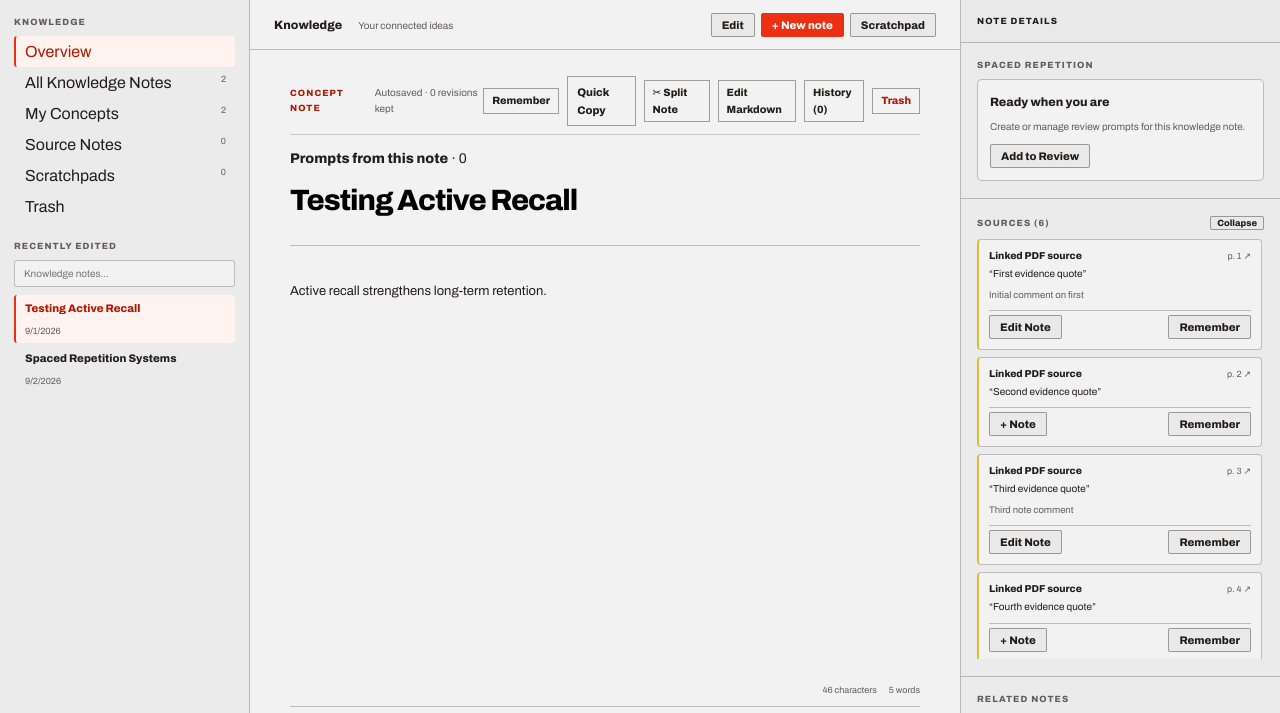
Test: NotesView evidence & backlinks visibility › supports collapsing and expanding the Sources section in sidebar
Expected: the element with test id "knowledge-source-item-eb-1" is shown, [977,239,1262,350]
Step 1. Click the button "Collapse" → click(1237, 223), box [1210,216,1264,230]
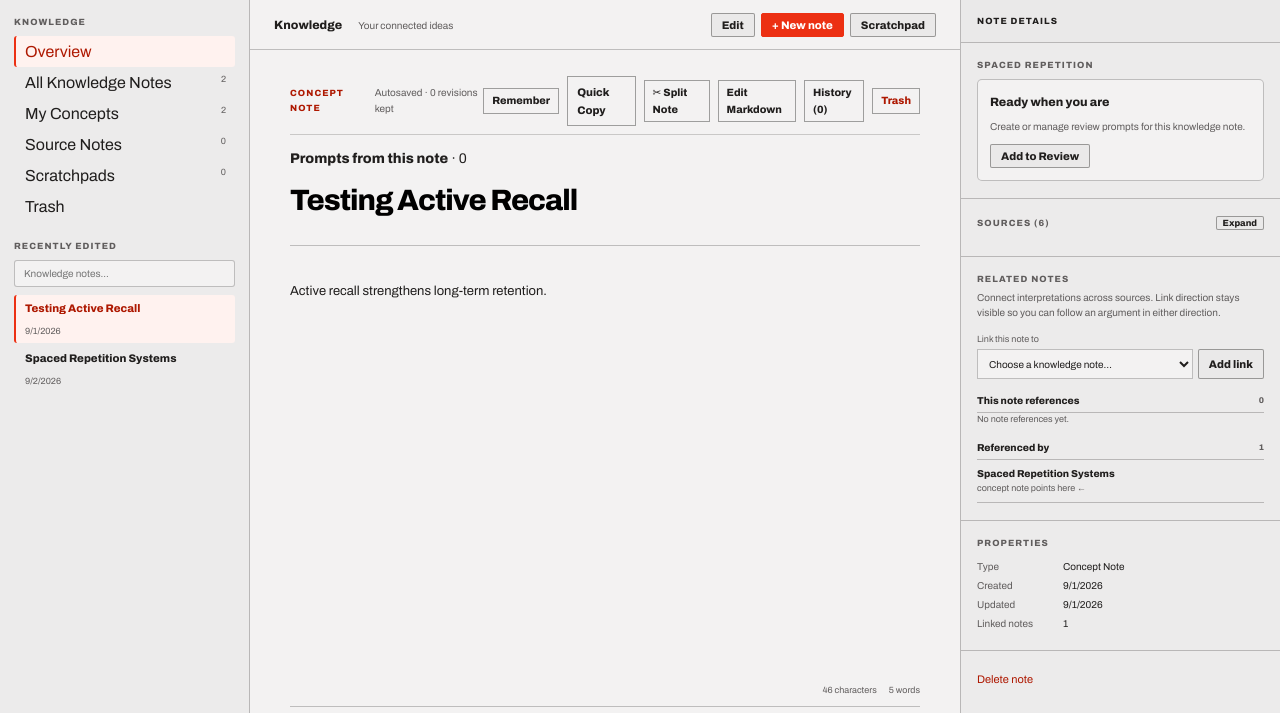
Now the element with test id "knowledge-source-item-eb-1" is gone
# Clicking Expand restores the list
Step 2. Click the button "Expand" → click(1240, 223), box [1216,216,1264,230]
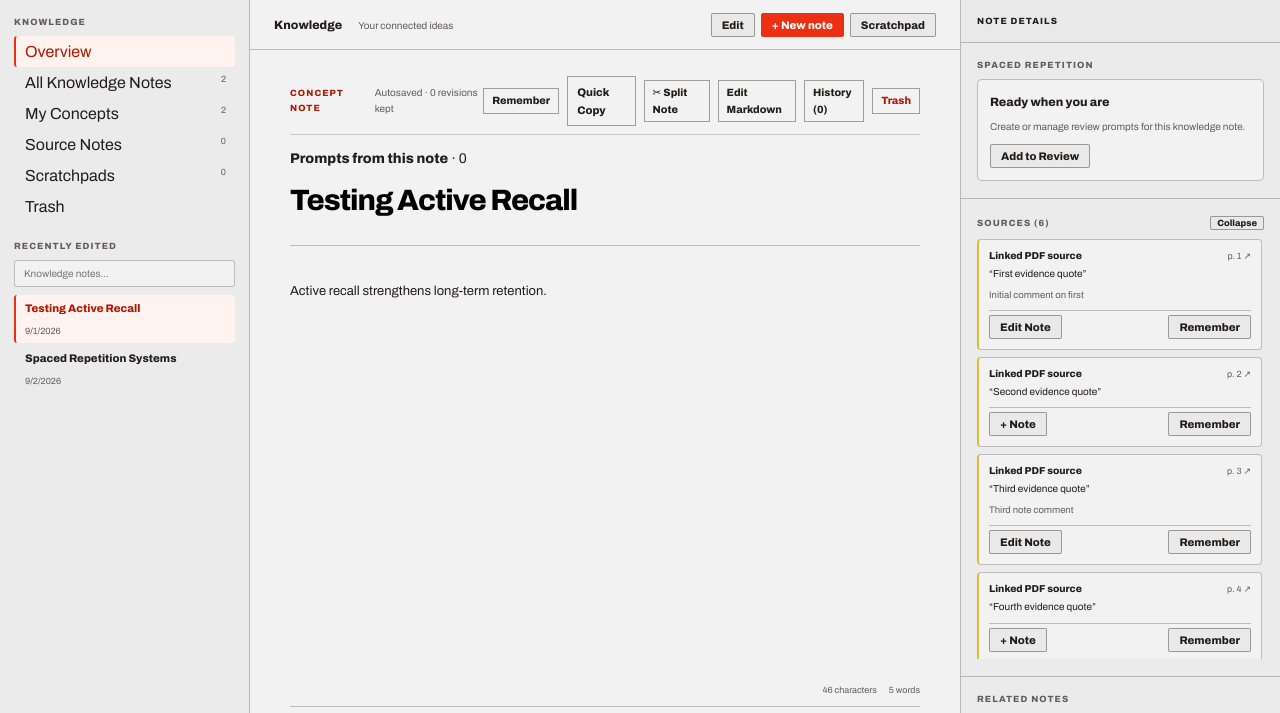
Now the element with test id "knowledge-source-item-eb-1" is shown, box [977,239,1262,350]
